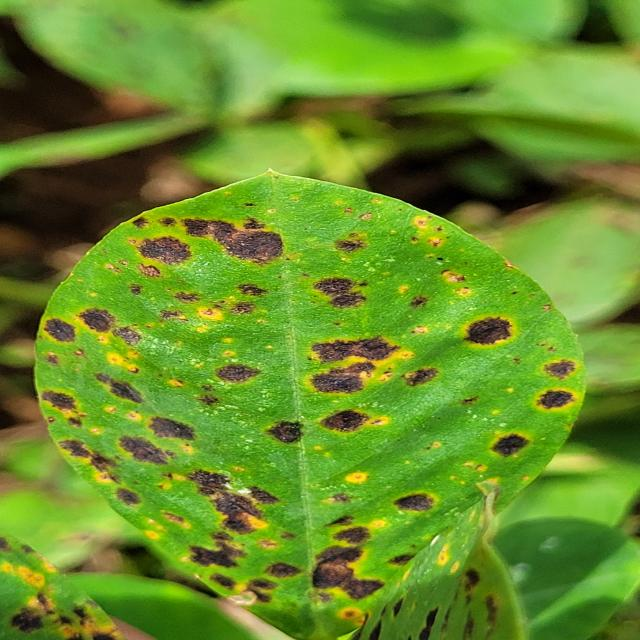Ground nut_tikka leaf spot: (38, 170, 580, 621)
